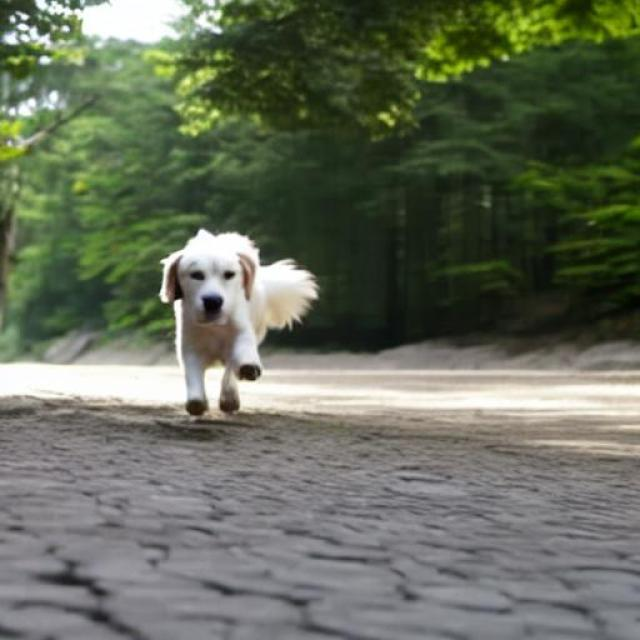Dog: (159, 228, 320, 417)
